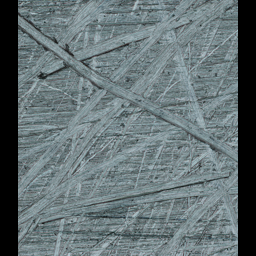d: (18, 1, 237, 253)
